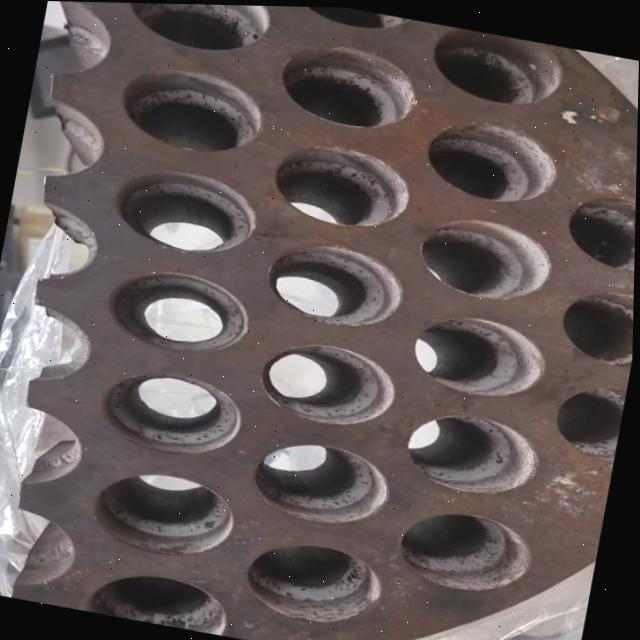Hole: (114, 57, 271, 161), (107, 159, 263, 262), (101, 260, 257, 362), (88, 461, 242, 564), (272, 34, 424, 135), (259, 233, 410, 334), (266, 135, 417, 235), (97, 362, 248, 462), (255, 333, 404, 433), (247, 432, 395, 532), (400, 402, 547, 502), (241, 532, 388, 631), (394, 500, 539, 600), (418, 110, 564, 208), (413, 208, 557, 307), (409, 306, 552, 404), (423, 22, 568, 111), (86, 562, 234, 635), (119, 2, 273, 60), (558, 184, 637, 272), (549, 376, 629, 461), (555, 281, 635, 365), (278, 5, 419, 36)
